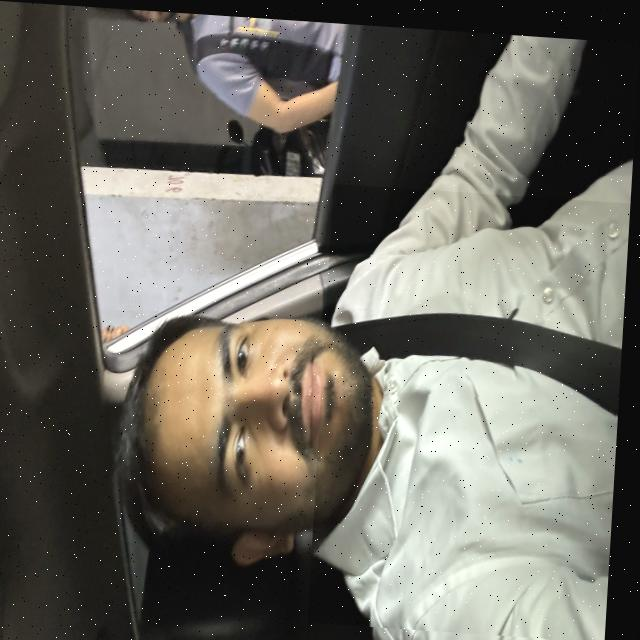seatbelt: (315, 178, 633, 633)
